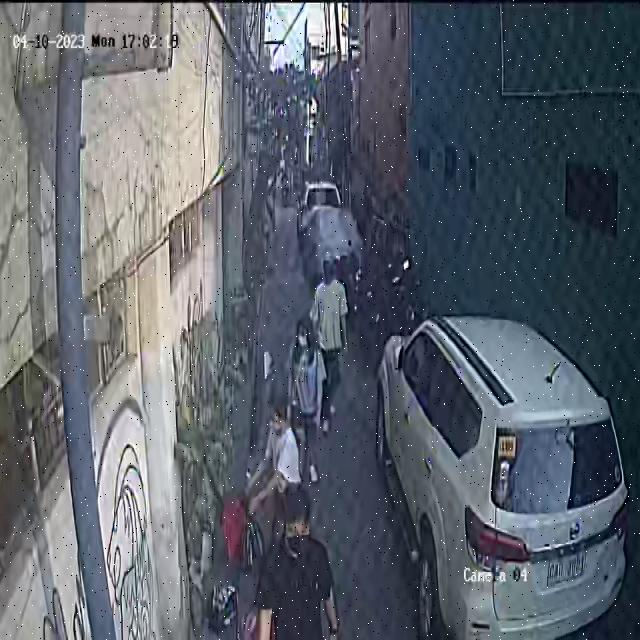garbage_dumping: (222, 474, 268, 586)
